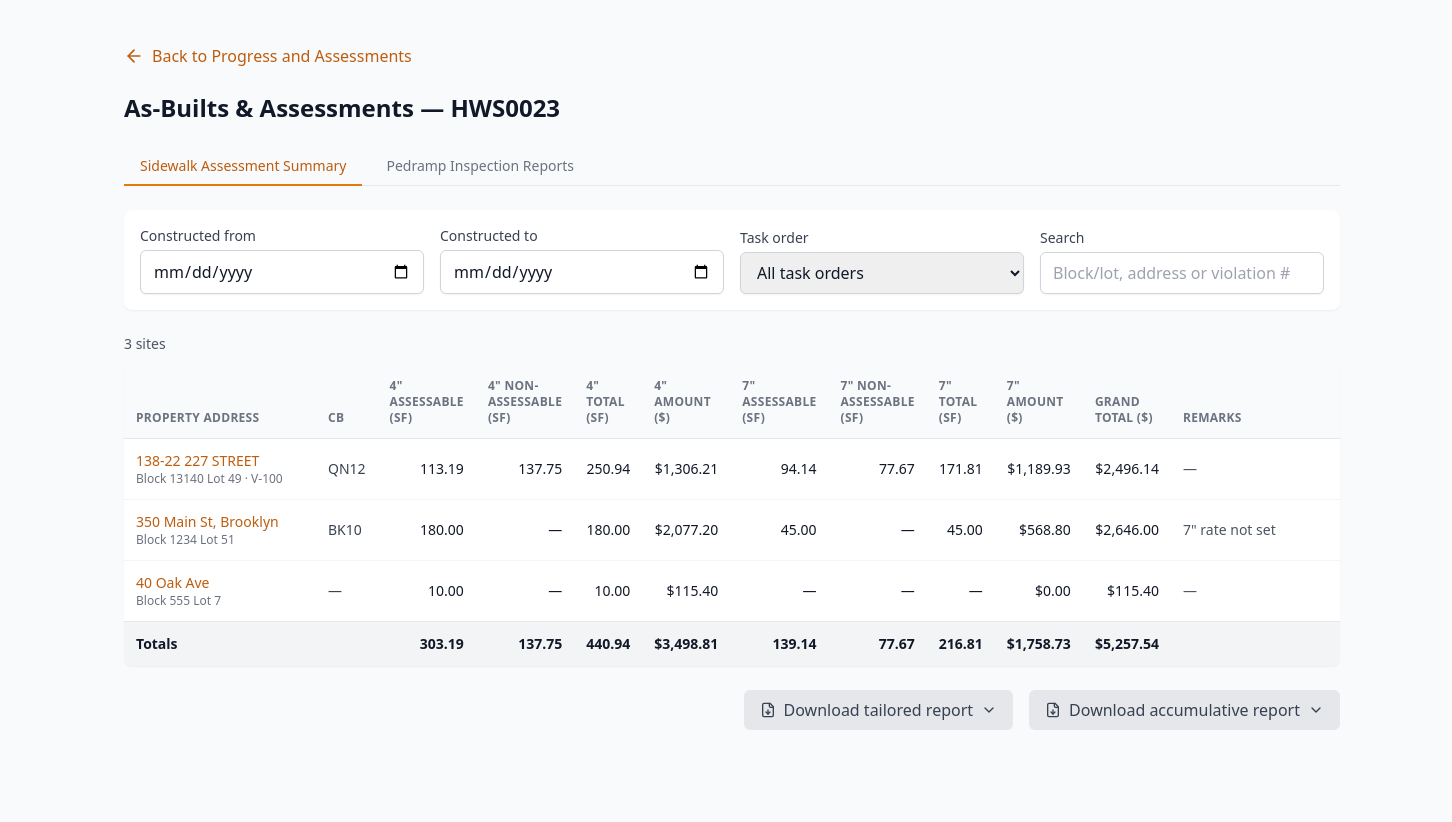
Test case: AssessmentsPage — the period and the search › asks the backend again for a date-constructed period, kept in the URL
The image size is (1452, 822).
In the date field labelled "Constructed from": (282, 272) top-left (140, 250), bottom-right (424, 294), type "2026-10-01"
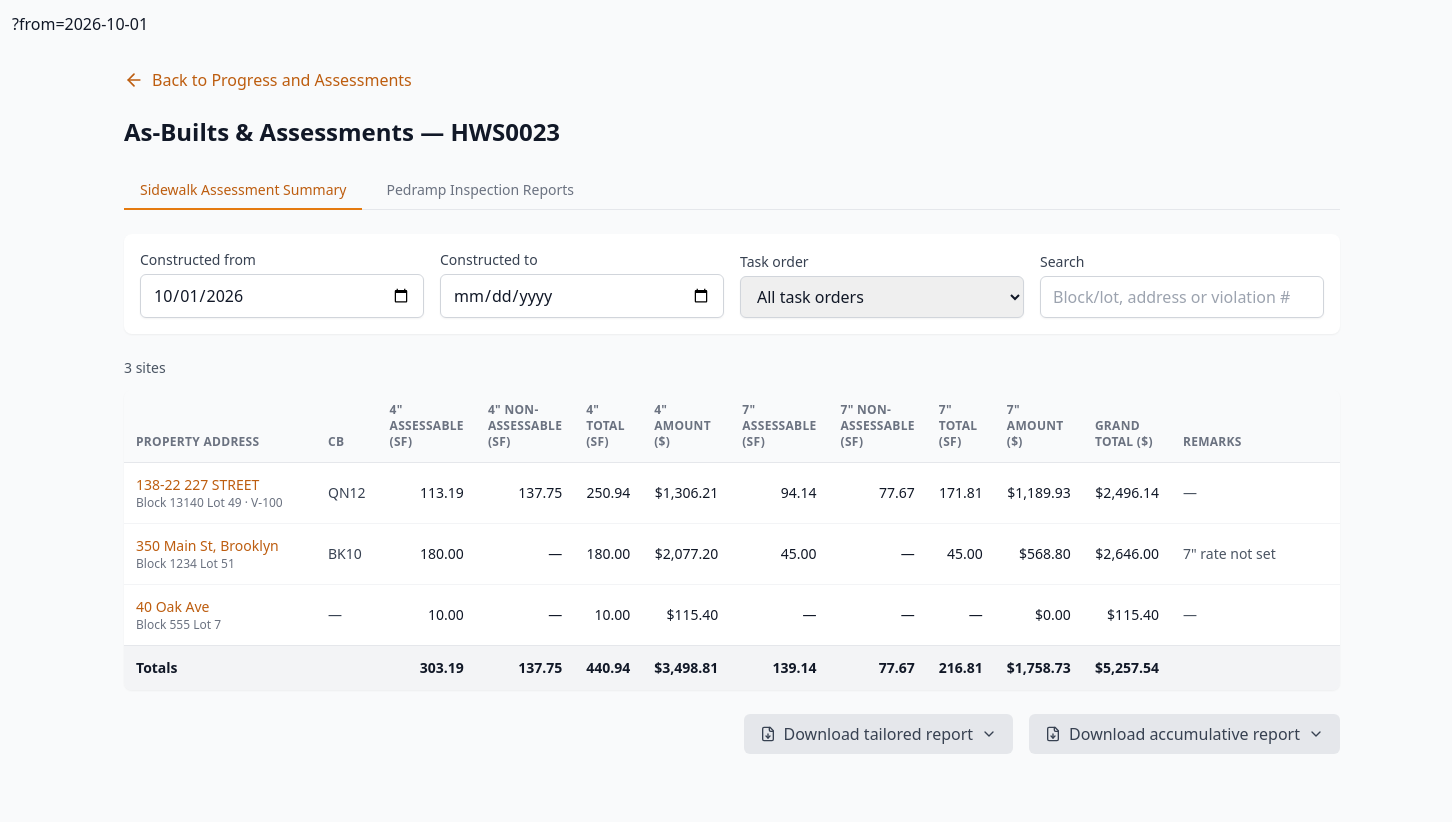
In the date field labelled "Constructed to": (582, 296) top-left (440, 274), bottom-right (724, 318), type "2026-10-31"
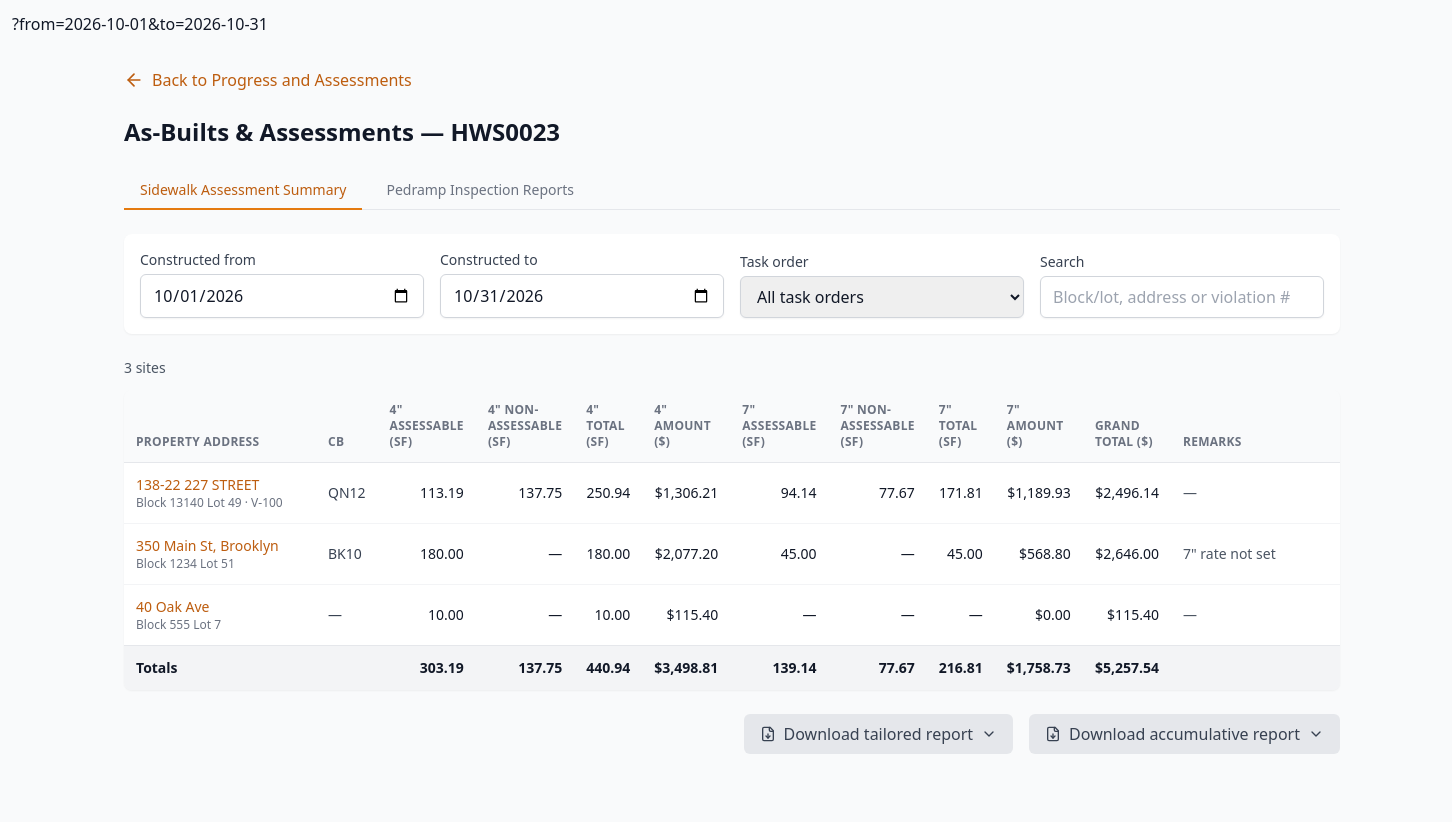
Check: the text with test id "page-url" reads "?from=2026-10-01&to=2026-10-31", box top-left (12, 13), bottom-right (268, 35)
